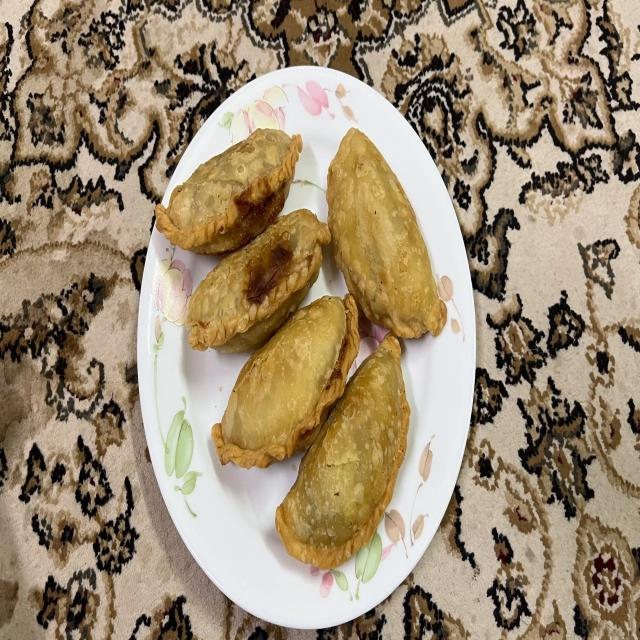karipap: (275, 333, 410, 571), (211, 293, 360, 469), (326, 129, 446, 338), (186, 209, 330, 351), (156, 129, 302, 256)
